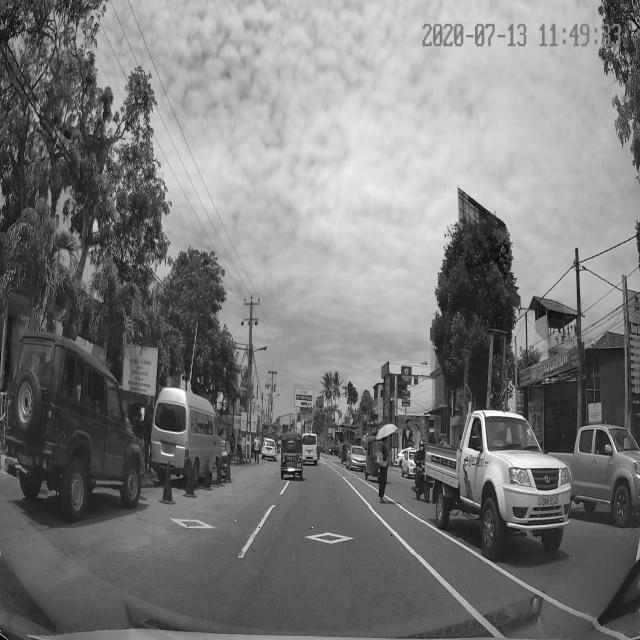diamond: (230, 507, 423, 555)
